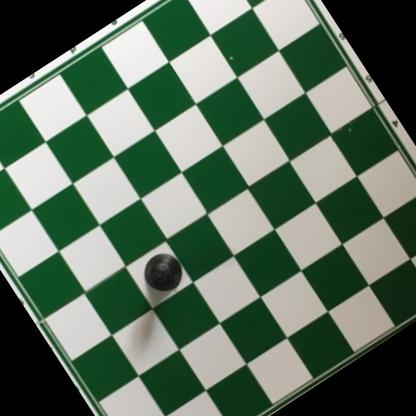black-queen: (135, 246, 190, 301)
